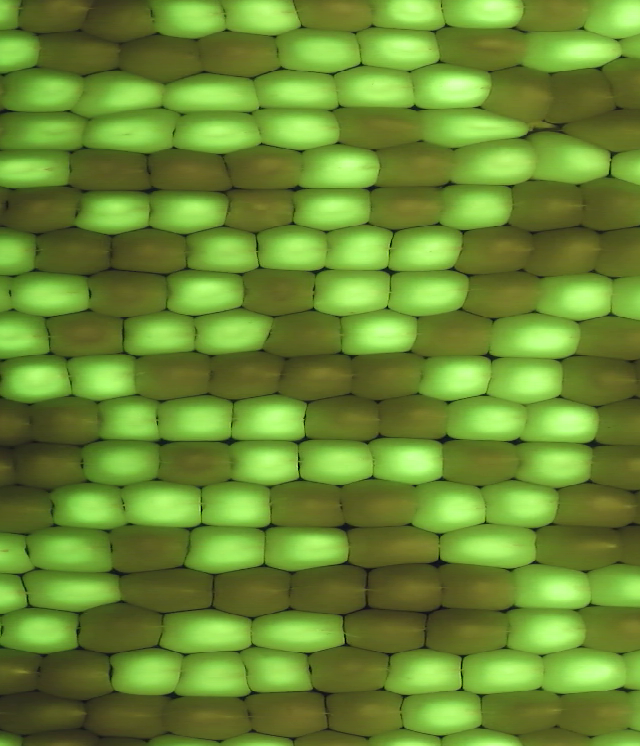fluorescent: (16, 565, 129, 617), (517, 25, 630, 76), (517, 129, 617, 186), (535, 643, 632, 701), (413, 104, 535, 150), (69, 69, 171, 124), (436, 390, 538, 445), (23, 521, 119, 579), (159, 261, 251, 321), (245, 606, 355, 656), (432, 521, 543, 570), (77, 106, 185, 156), (446, 135, 544, 190), (475, 475, 568, 532), (485, 310, 585, 363), (456, 644, 552, 699), (362, 432, 451, 491), (259, 521, 356, 575), (350, 22, 447, 75), (382, 265, 475, 320), (271, 23, 365, 77), (503, 602, 592, 659), (291, 139, 385, 192), (227, 392, 314, 449), (407, 59, 497, 114), (330, 62, 423, 115), (336, 304, 424, 360), (382, 220, 468, 277), (46, 478, 132, 535), (158, 607, 256, 657), (408, 478, 491, 537), (75, 437, 169, 489), (143, 185, 235, 238), (480, 355, 572, 408), (305, 267, 395, 321), (252, 220, 337, 277), (158, 69, 263, 115), (377, 647, 468, 700), (168, 109, 266, 157), (182, 522, 269, 576), (0, 65, 90, 117), (7, 269, 97, 321), (116, 478, 206, 530), (154, 391, 239, 446), (106, 644, 191, 699), (189, 306, 275, 360), (170, 648, 254, 703), (247, 106, 345, 153), (508, 560, 596, 612), (250, 67, 345, 115), (72, 185, 158, 238), (293, 436, 379, 489), (397, 689, 488, 739), (0, 604, 84, 658), (237, 644, 321, 698), (289, 185, 382, 233), (319, 219, 397, 276), (510, 439, 598, 489), (0, 110, 93, 157), (118, 307, 200, 360), (62, 349, 144, 402), (0, 352, 79, 407), (197, 479, 277, 533), (182, 223, 265, 275), (533, 269, 619, 319), (223, 437, 305, 489), (435, 180, 518, 231), (418, 350, 494, 405), (141, 1, 232, 43), (93, 392, 164, 444), (217, 1, 307, 39), (0, 149, 75, 190), (363, 1, 451, 35), (0, 311, 55, 364), (437, 1, 531, 32), (578, 1, 640, 43), (0, 222, 41, 281), (0, 28, 44, 77), (603, 271, 640, 327), (602, 141, 640, 194), (0, 568, 38, 618), (0, 527, 37, 577)
nonfluorescent: (340, 520, 447, 574), (528, 519, 630, 574), (115, 565, 224, 616), (207, 561, 298, 622), (73, 599, 172, 655), (115, 28, 205, 89), (83, 264, 175, 323), (157, 692, 260, 744), (283, 561, 374, 619), (431, 25, 534, 76), (105, 519, 197, 576), (473, 685, 570, 739), (319, 684, 414, 739), (433, 558, 523, 616), (552, 349, 640, 408), (196, 29, 288, 85), (335, 475, 425, 532), (421, 604, 516, 658), (201, 347, 292, 403), (330, 103, 431, 153), (32, 27, 131, 78), (236, 687, 335, 738), (405, 308, 498, 362), (64, 144, 158, 197), (337, 605, 431, 658), (33, 646, 117, 705), (303, 642, 393, 697), (543, 480, 640, 531), (32, 222, 117, 280), (453, 223, 541, 279), (437, 436, 528, 490), (106, 222, 192, 279), (150, 435, 240, 489), (264, 478, 352, 533), (145, 144, 236, 197), (458, 269, 545, 324), (296, 393, 384, 447), (543, 62, 615, 128), (522, 223, 605, 280), (0, 181, 82, 238), (13, 437, 95, 494), (558, 100, 640, 157), (261, 309, 349, 362), (22, 393, 105, 449), (364, 560, 447, 616), (236, 265, 320, 320), (479, 65, 557, 124), (40, 308, 130, 359), (348, 349, 433, 403), (275, 349, 360, 402), (553, 686, 638, 739), (223, 143, 311, 194), (132, 349, 215, 403), (365, 182, 452, 233), (0, 688, 96, 734), (369, 140, 457, 189), (215, 184, 298, 234), (373, 391, 450, 442), (574, 602, 640, 659), (76, 1, 160, 44), (572, 312, 640, 363), (509, 1, 594, 39), (8, 1, 93, 39), (286, 1, 378, 36), (586, 395, 640, 452), (0, 482, 60, 533), (590, 222, 640, 281), (585, 439, 640, 492), (600, 50, 640, 116), (0, 645, 48, 698), (0, 395, 35, 449), (608, 522, 640, 575)
